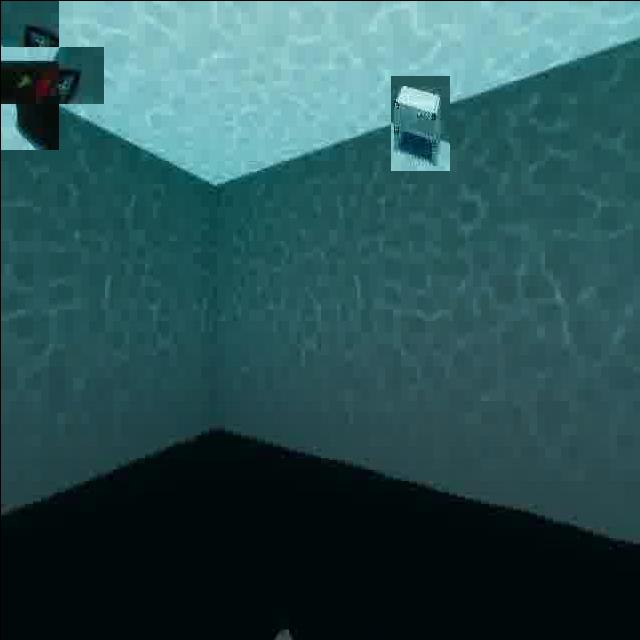Cylinder: (0, 23, 80, 127)
Docking Station: (390, 75, 449, 170)
